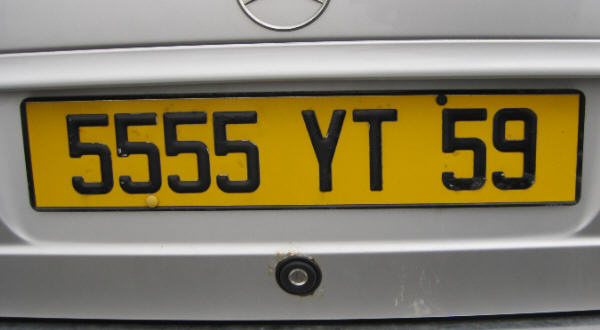license_plate: (17, 90, 584, 213)
